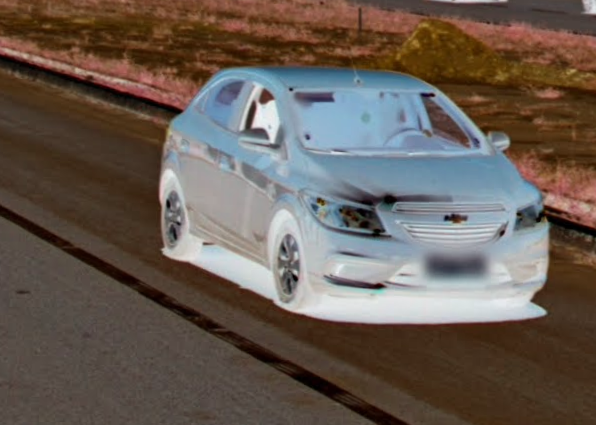car: (156, 44, 552, 312)
